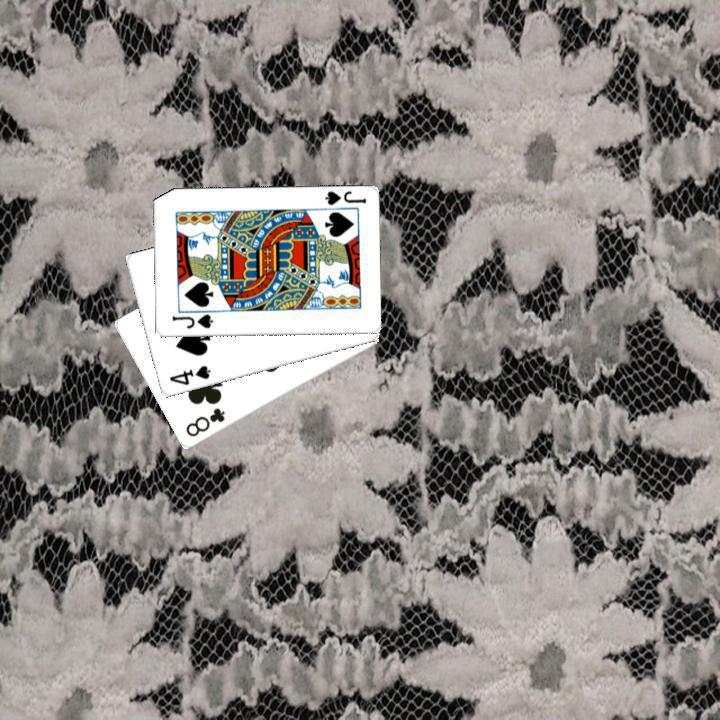4: (165, 361, 212, 388)
8: (181, 404, 227, 439)
J: (168, 310, 215, 331), (320, 187, 367, 207)
